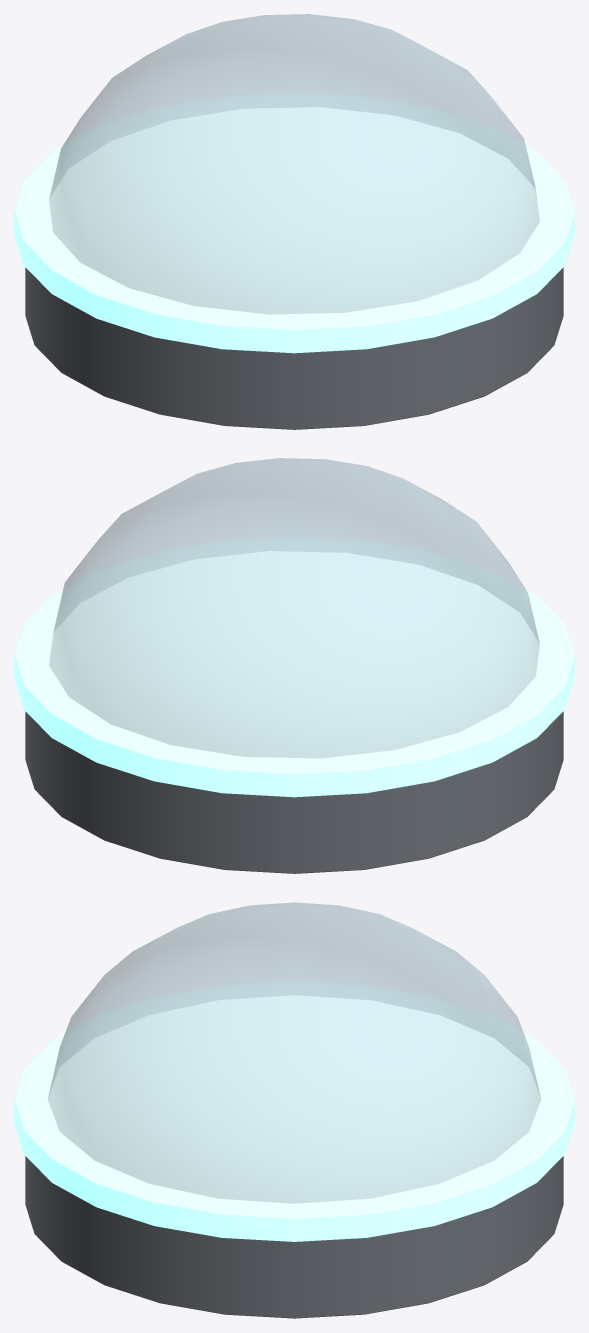
The model's file is nomad_utility_dome.fbx.
The picture shows the model from 3 angles, top to bottom: view 1: azimuth 30°, elevation 25°; view 2: azimuth 150°, elevation 25°; view 3: azimuth 270°, elevation 25°; orthographic projection.
Visible parts, largest first — view 1: Utility_Dome; view 2: Utility_Dome; view 3: Utility_Dome.
Part boxes in pixels (<box>): Utility_Dome: <box>14,14,574,429</box>; Utility_Dome: <box>14,458,574,873</box>; Utility_Dome: <box>14,902,574,1318</box>.
Size of the model in its own units: 57.5 by 37.95 by 57.5.
